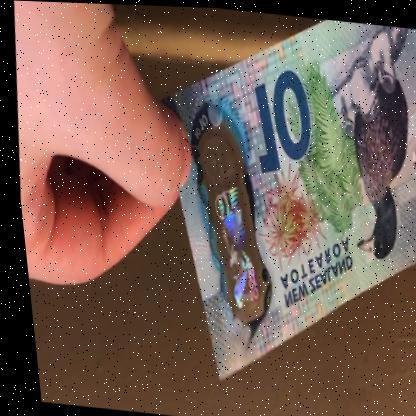10F: (186, 140, 269, 313)
